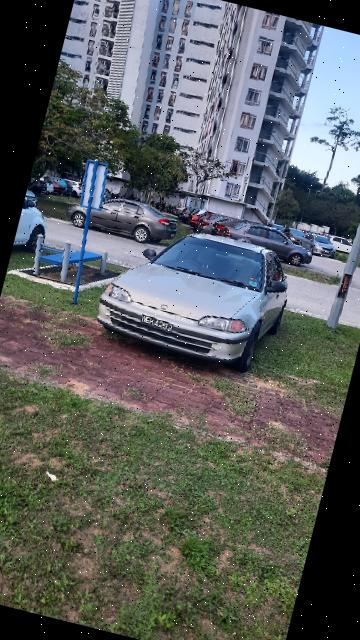License_Plate: (139, 313, 179, 337)
car: (91, 214, 302, 380)
